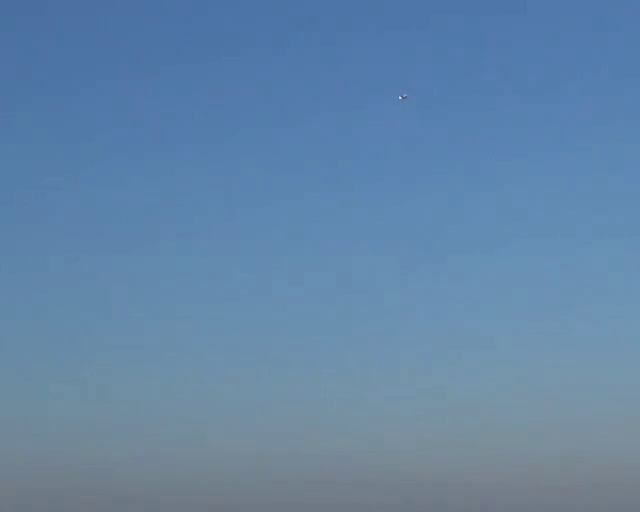AIRPLANE: (384, 86, 397, 97)
